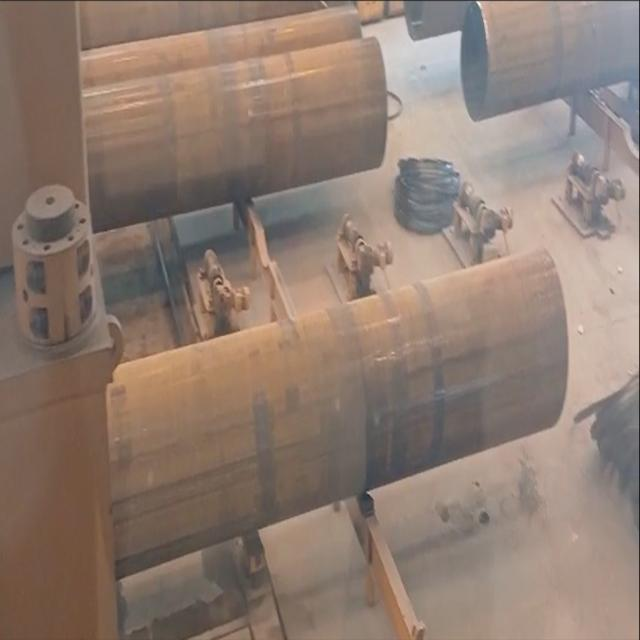warningzone: (116, 196, 310, 355)
